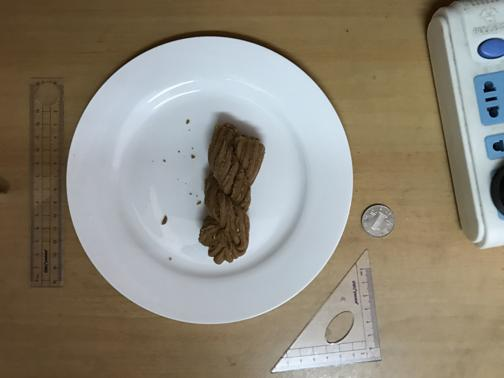coin: (359, 202, 397, 237)
fired_dough_twist: (199, 127, 262, 261)
